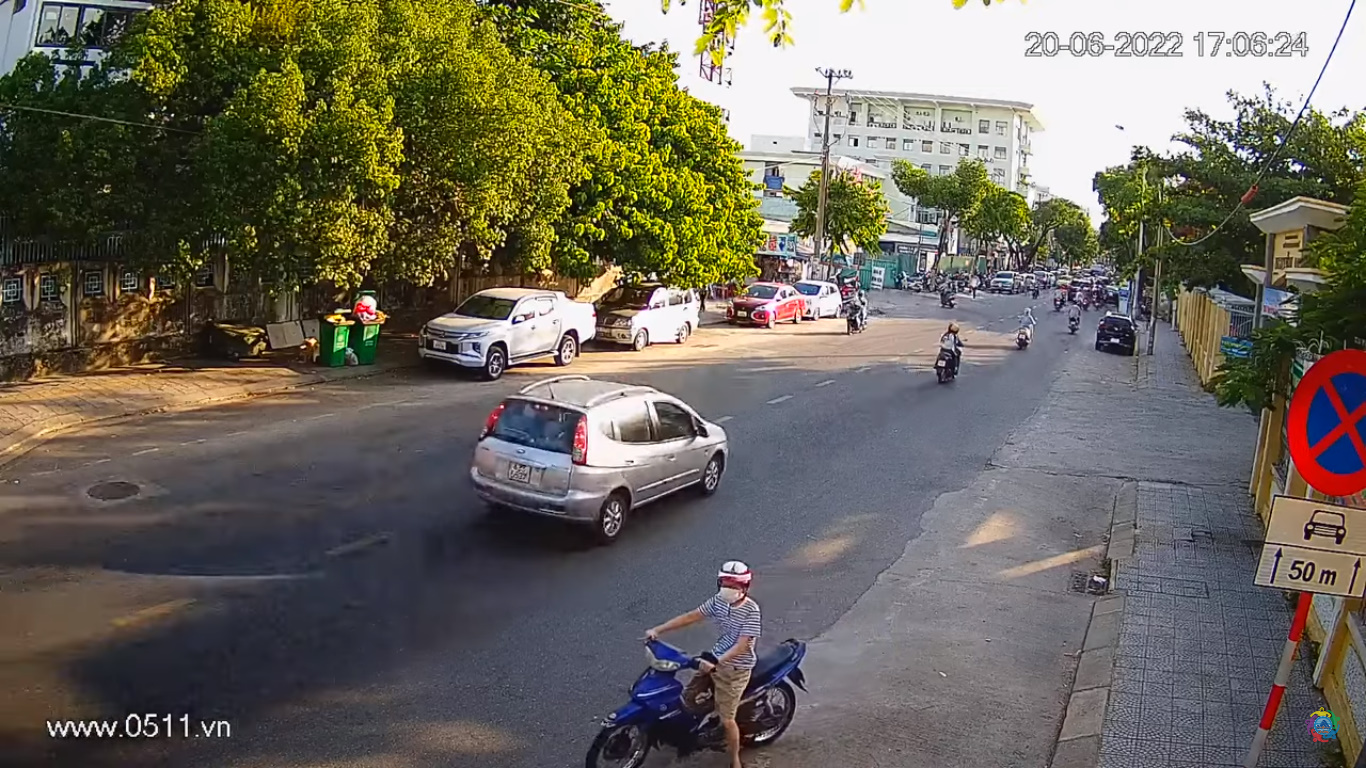car: (460, 375, 737, 541)
